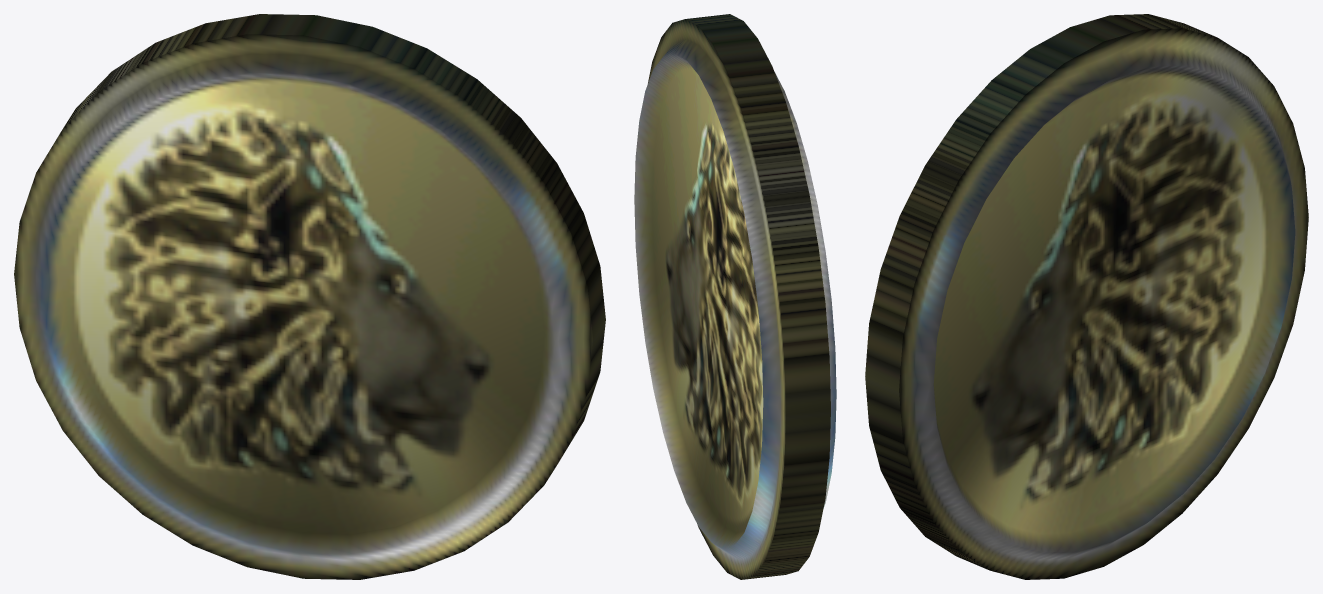
File: narnia.ico.obj
3 views of the same model, side by side, from view 1: azimuth 30°, elevation 25°; view 2: azimuth 150°, elevation 25°; view 3: azimuth 270°, elevation 25° (orthographic). The views are drawn at different scales.
Size of the model in its own units: 3.06 by 4 by 3.06.
1 material, 1 textured.
